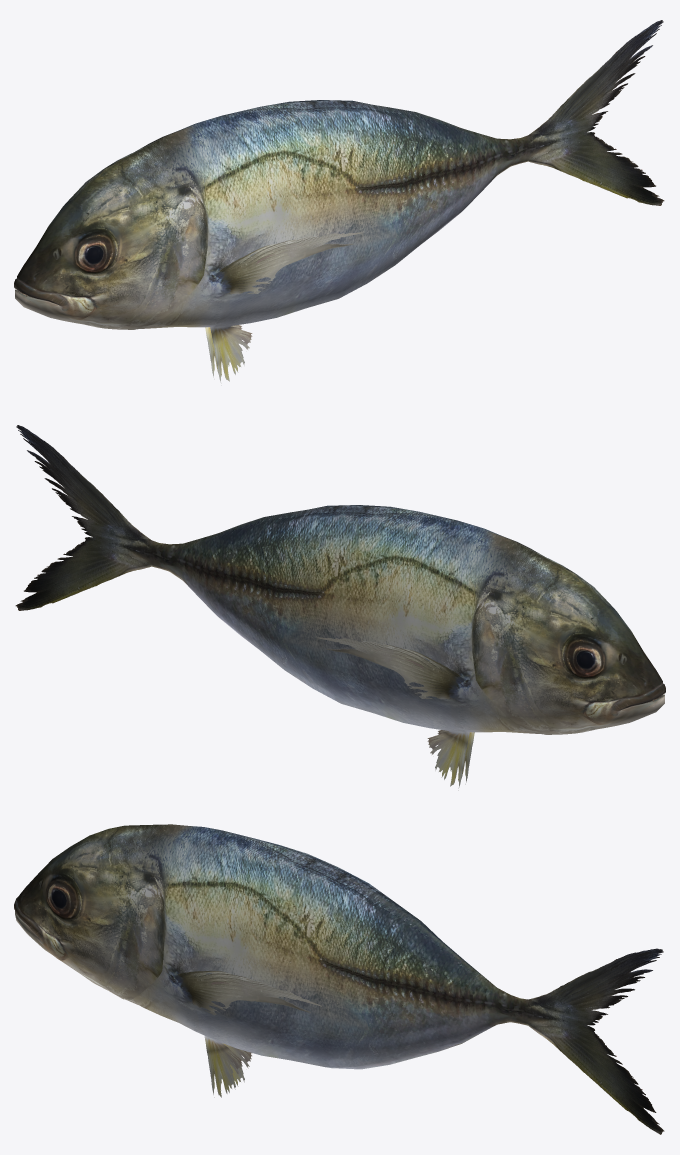
File: fish.glb
3 views of the same model, one above another, from view 1: azimuth 30°, elevation 25°; view 2: azimuth 150°, elevation 25°; view 3: azimuth 330°, elevation 25° (orthographic).
Parts seen in each view (by area): view 1: fish; view 2: fish; view 3: fish.
Part boxes in pixels (<box>): fish: <box>14,20,664,385</box>; fish: <box>15,425,665,790</box>; fish: <box>14,824,664,1134</box>.
Size of the model in its own units: 1.6 by 0.6432 by 0.1989.
1 material, 1 textured.
